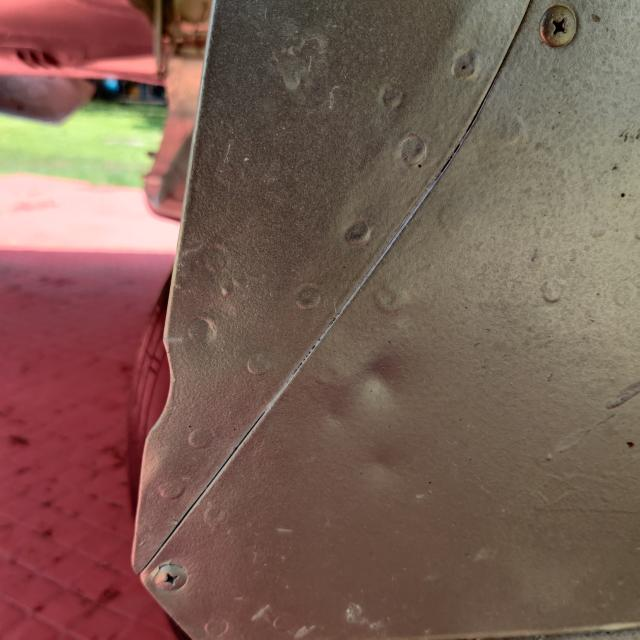dent: (305, 331, 418, 452)
